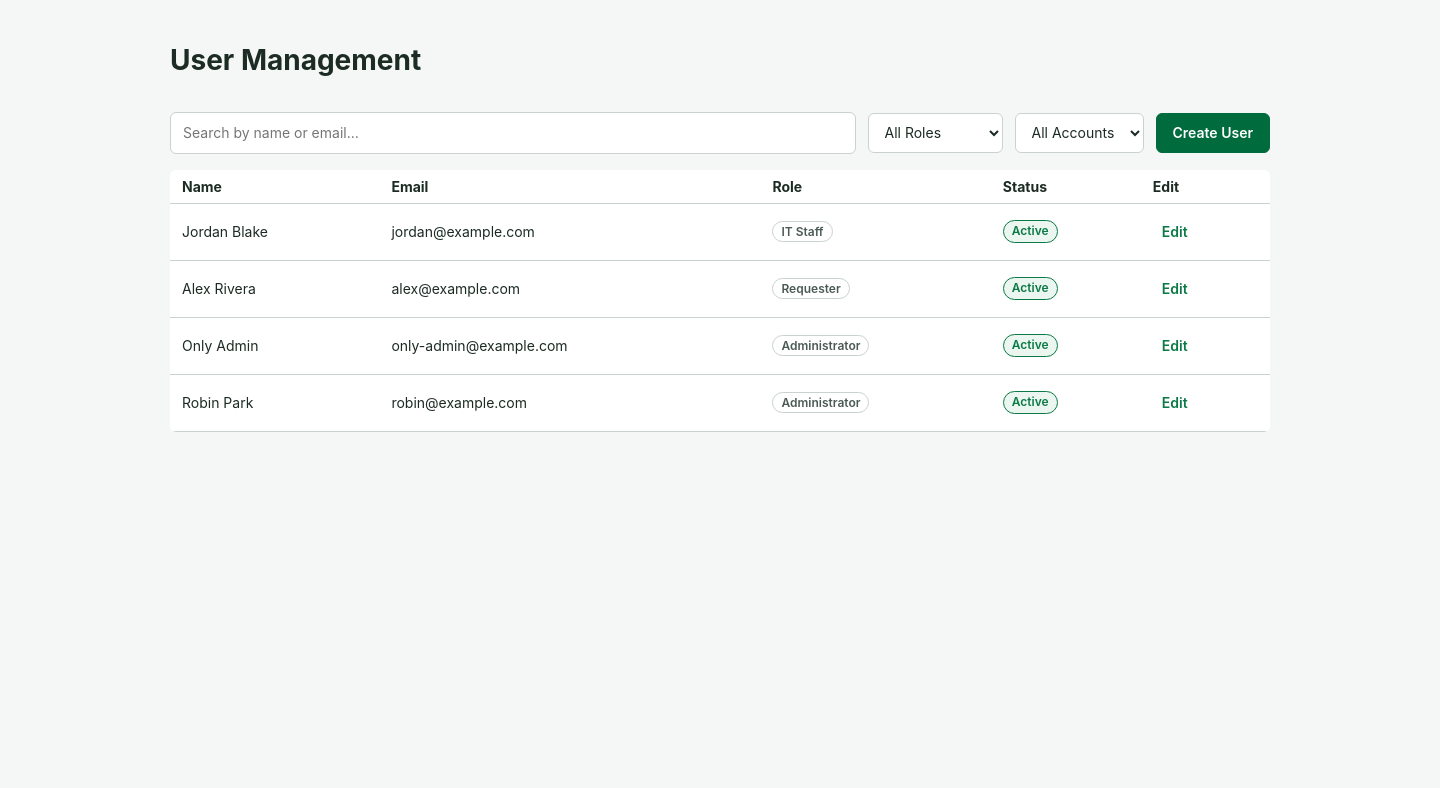
UserManagement › the currently-authenticated Administrator's own row renders a disabled Active toggle with an explanatory message
Click the button "Edit" in the row of "Robin Park" at [1175, 402], box [1153,382,1197,422]
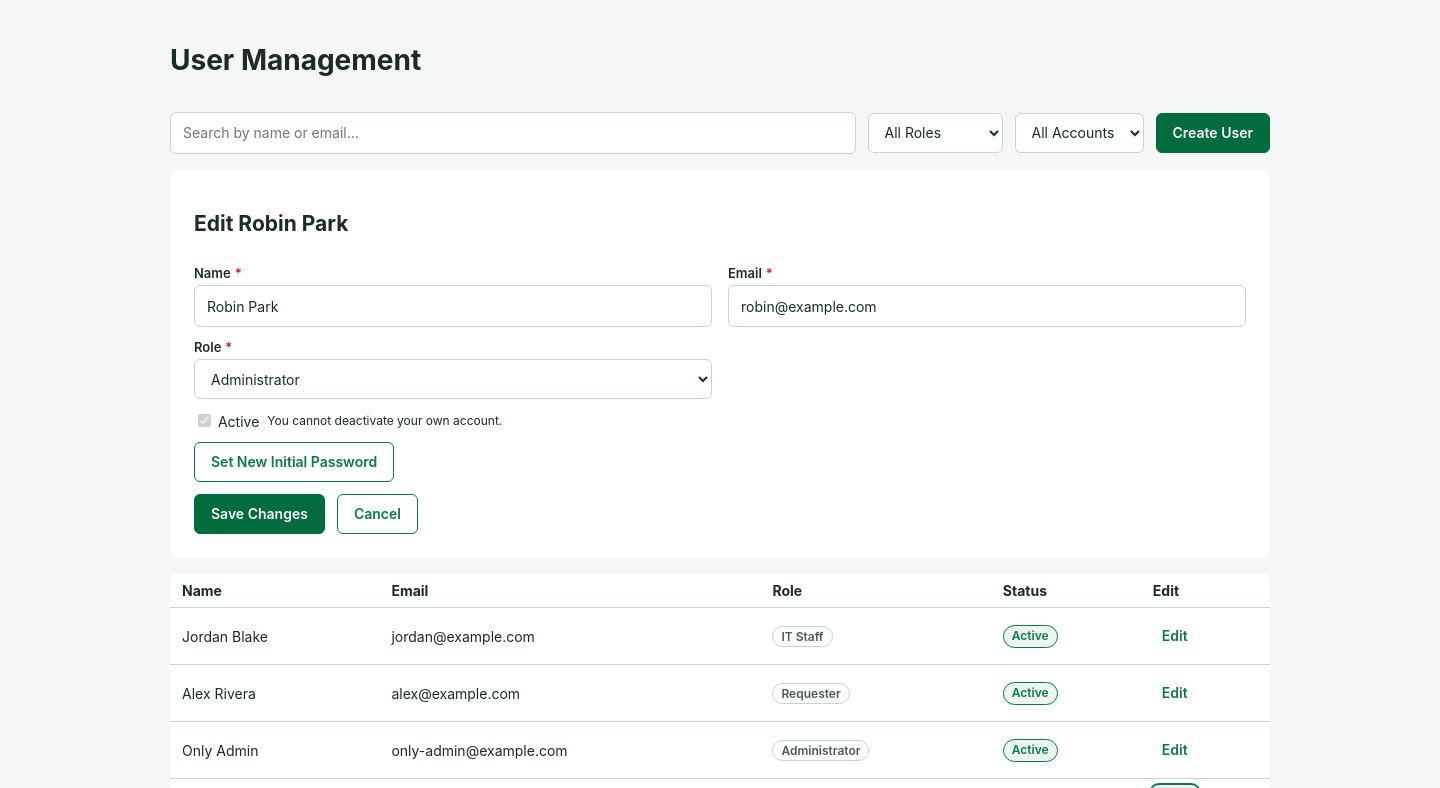
Check: the checkbox labelled "Active" is disabled, box [198,414,211,427]
Check: the text "You cannot deactivate your own account." is shown, box [267,413,502,428]
